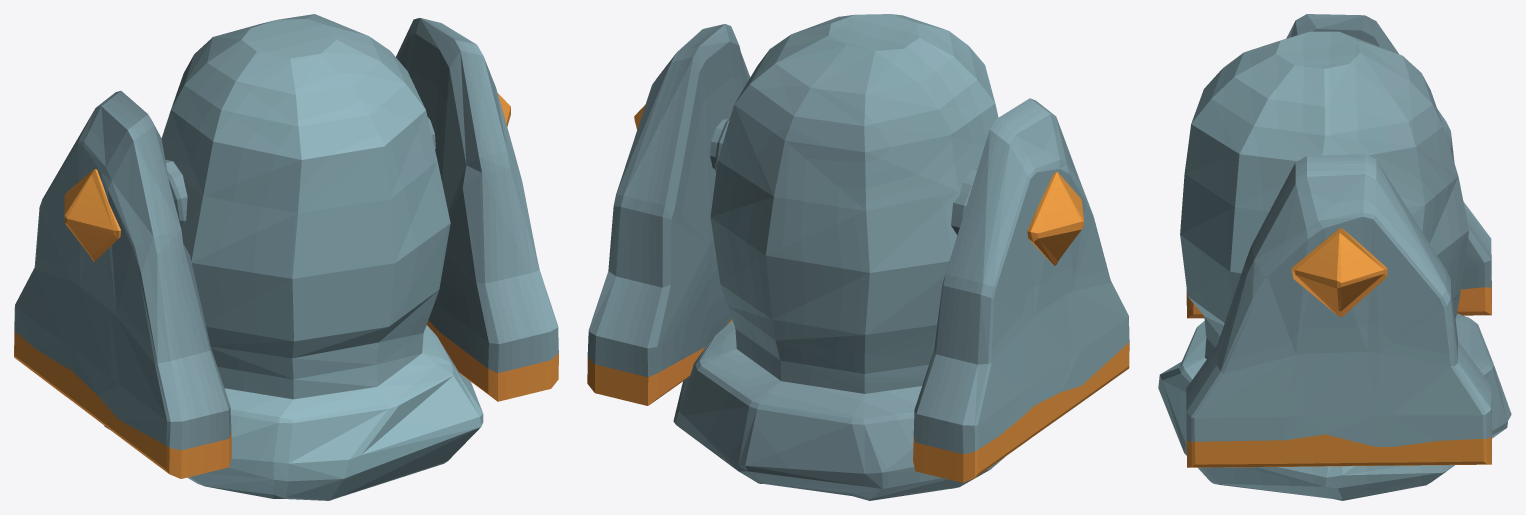
File: CharSkyKid_Prop_Cannon_01.glb
The picture shows the model from 3 angles, left to right: view 1: azimuth 30°, elevation 25°; view 2: azimuth 150°, elevation 25°; view 3: azimuth 270°, elevation 25°; orthographic projection. The views are drawn at different scales.
Parts seen in each view (by area): view 1: CharSkyKid_Prop_Cannon_01; view 2: CharSkyKid_Prop_Cannon_01; view 3: CharSkyKid_Prop_Cannon_01.
Boxes of the visible parts, x1,y1,x2,y2 form: CharSkyKid_Prop_Cannon_01: [14, 14, 558, 500]; CharSkyKid_Prop_Cannon_01: [587, 14, 1129, 500]; CharSkyKid_Prop_Cannon_01: [1158, 14, 1511, 500].
Size of the model in its own units: 3.79 by 3.31 by 2.72.
Materials: 1 (1 with a texture image).
